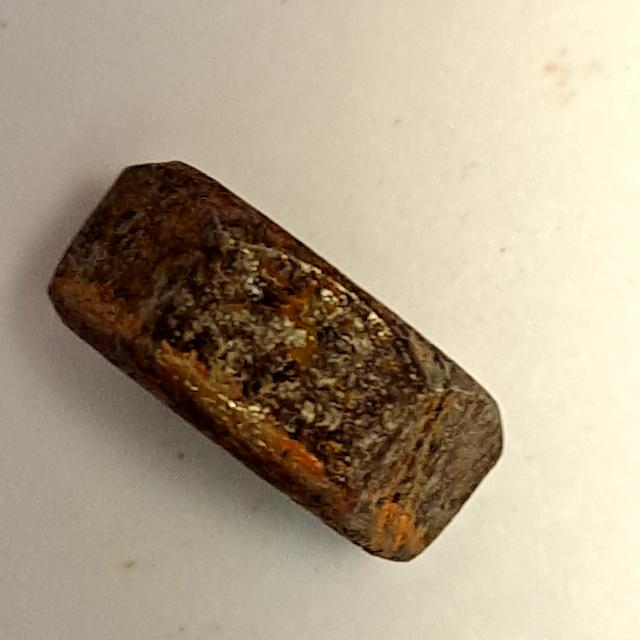Rust: (30, 123, 529, 581)
